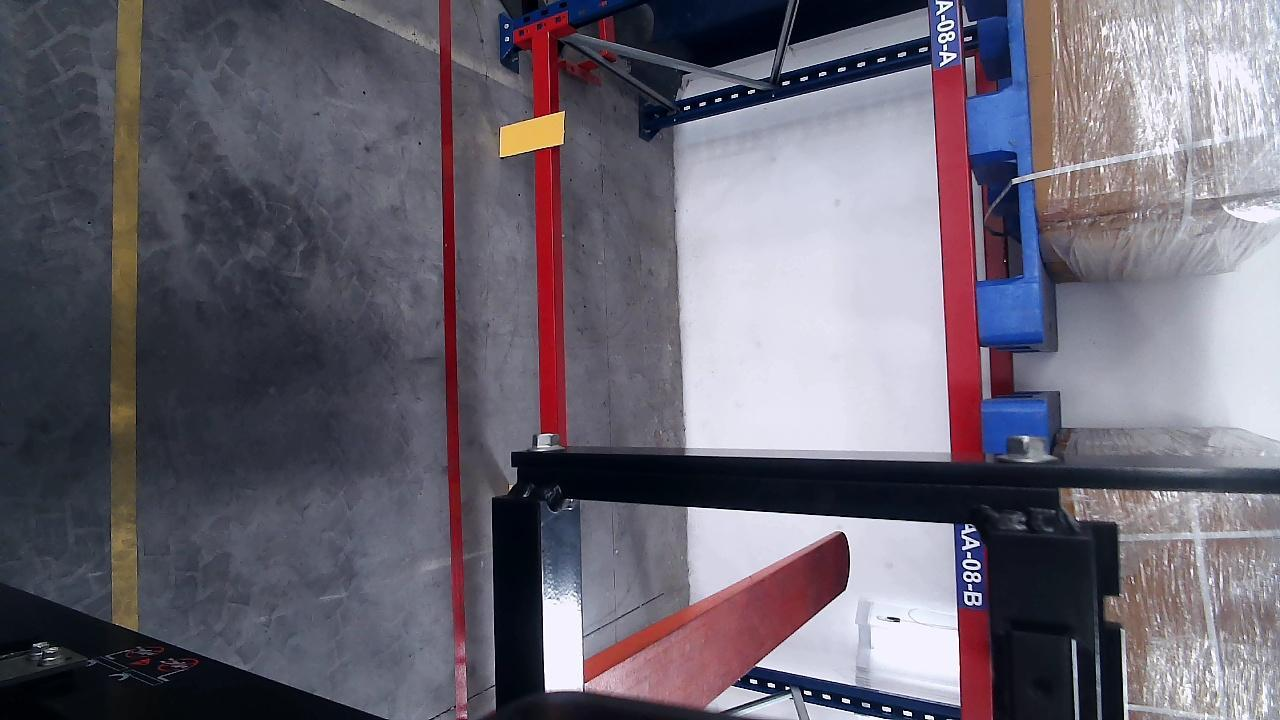h_rack: (928, 0, 996, 720), (529, 31, 558, 435)
orange_strip: (499, 114, 567, 156)
red_line: (440, 1, 471, 718)
small_pallet: (961, 1, 1043, 338)
yellow_line: (111, 0, 144, 632)
